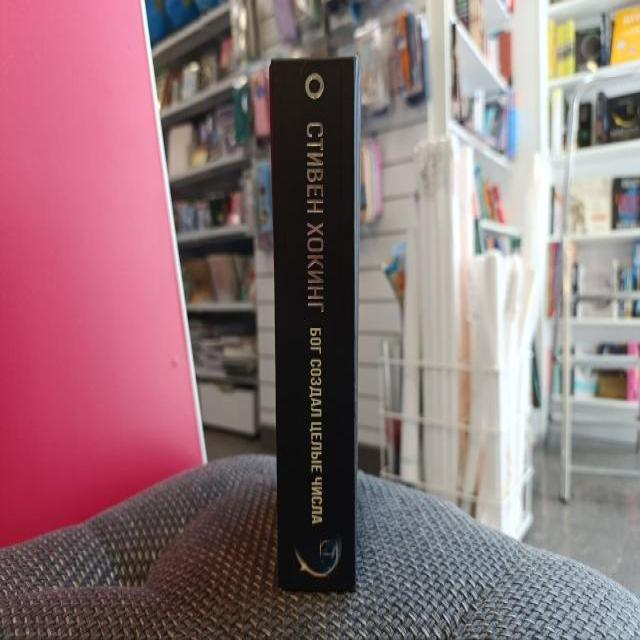book: (272, 58, 356, 591)
